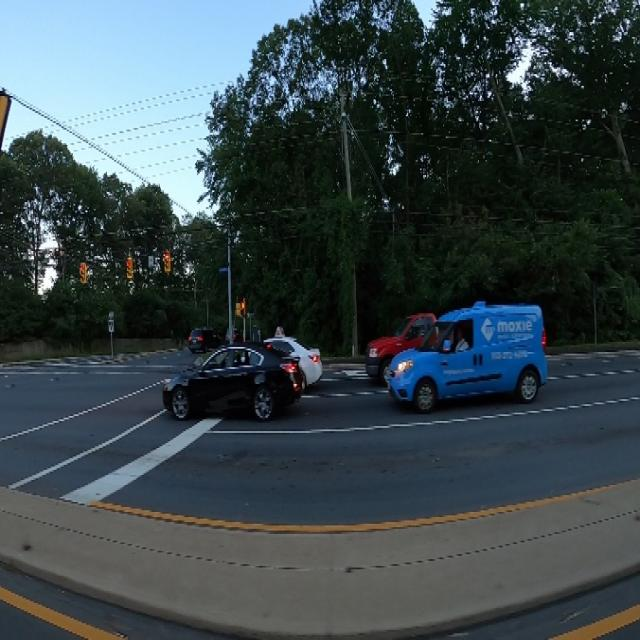car: (393, 285, 555, 428), (159, 344, 310, 426), (366, 312, 525, 388), (182, 318, 209, 352)
